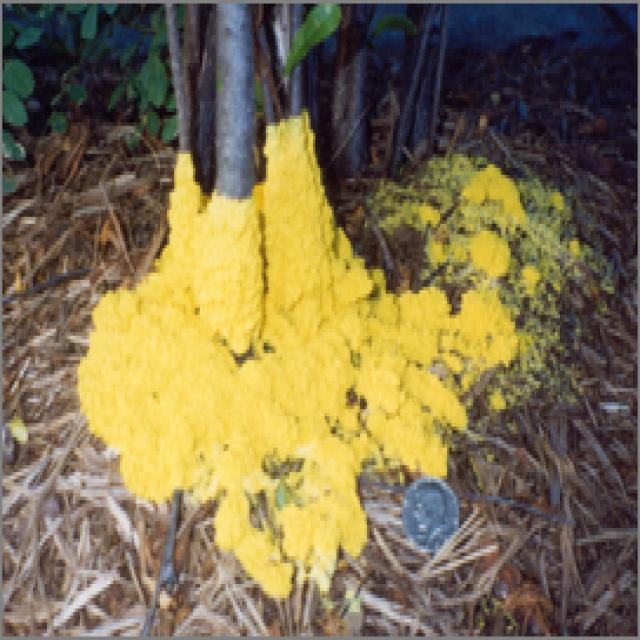Dog_vomit_slime_mold: (25, 108, 602, 612)
